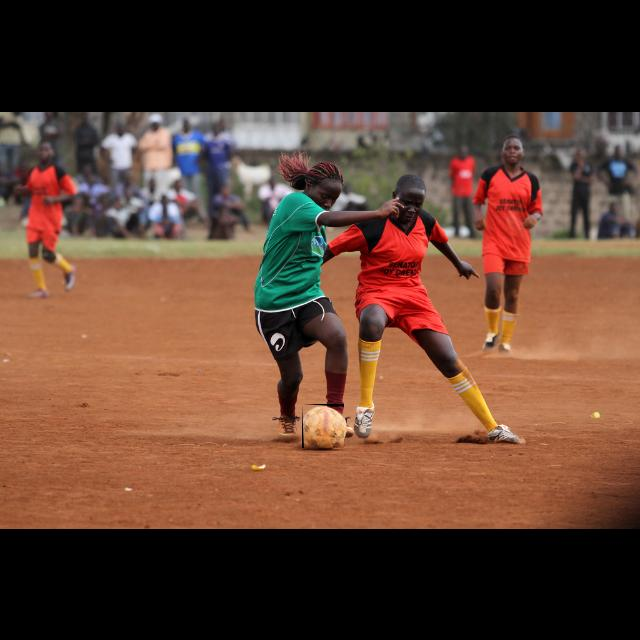Football: (302, 404, 344, 448)
